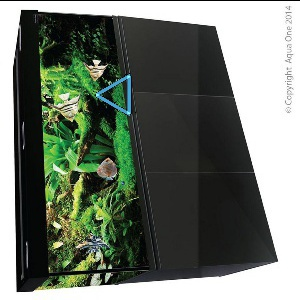triangle: (93, 71, 134, 120)
